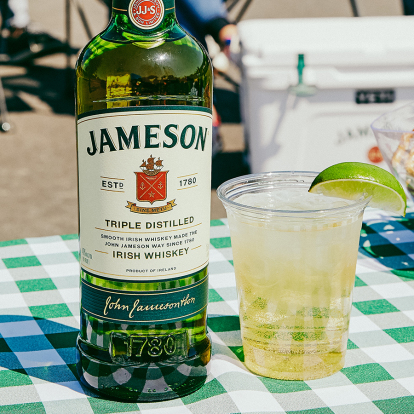Jameson: (71, 1, 216, 405)
